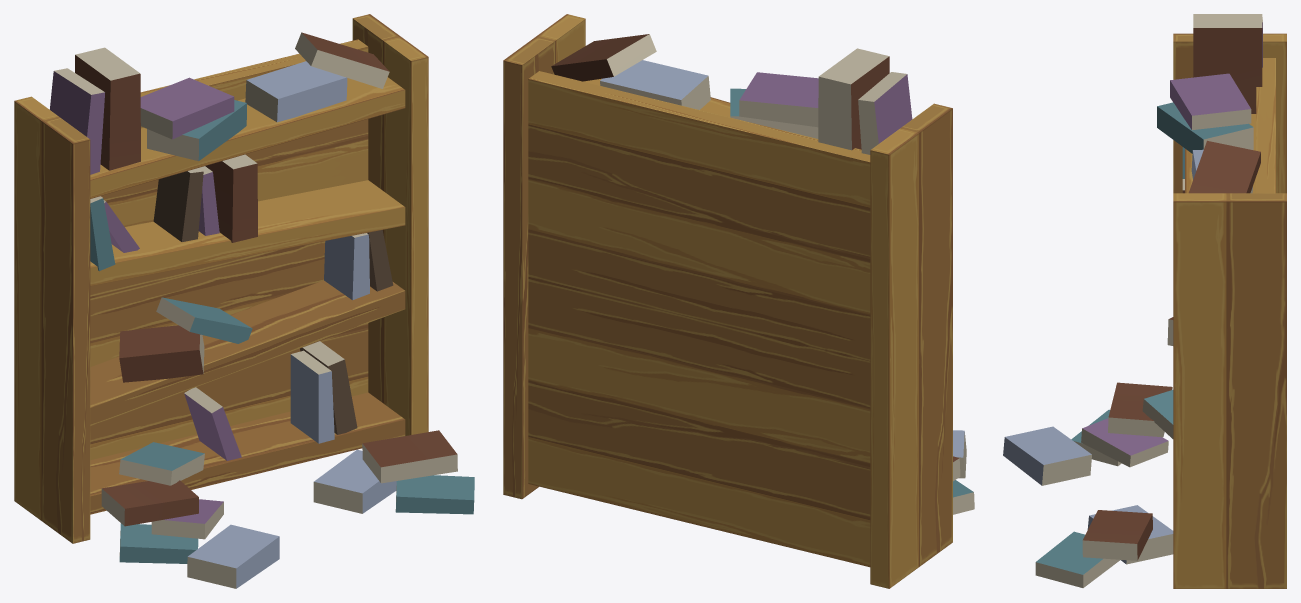
Rendered from Bookshelf_3.FBX.
The picture shows the model from 3 angles, left to right: view 1: azimuth 30°, elevation 25°; view 2: azimuth 150°, elevation 25°; view 3: azimuth 270°, elevation 25°; orthographic projection. The views are drawn at different scales.
Visible parts, largest first — view 1: Bookshelf_3; view 2: Bookshelf_3; view 3: Bookshelf_3.
Part boxes in pixels (x1,y1,x2,y2): Bookshelf_3: [14, 14, 474, 588]; Bookshelf_3: [503, 14, 974, 588]; Bookshelf_3: [1003, 14, 1286, 588].
Size of the model in its own units: 52.82 by 62.99 by 37.71.
